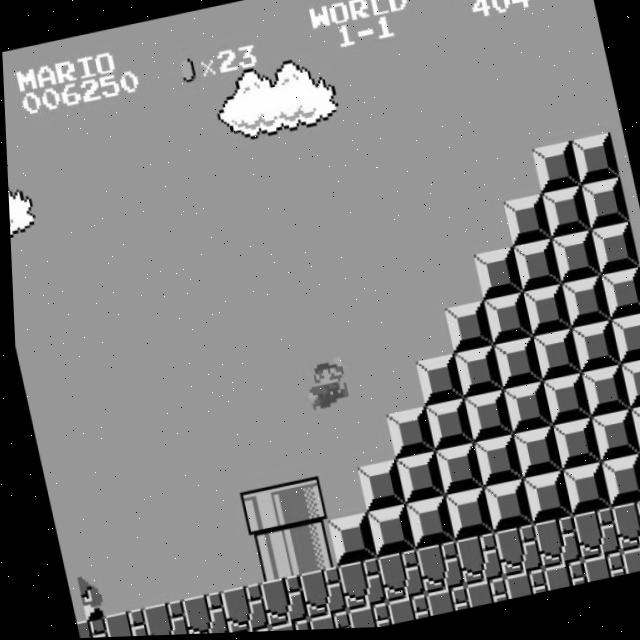11- little_mario: (294, 356, 347, 413)
14- pipe: (283, 522, 333, 576), (244, 531, 294, 584)
15- pipe_head: (234, 486, 284, 540), (274, 478, 323, 532)
17- undestructible_block: (410, 543, 460, 597), (566, 511, 616, 565), (253, 576, 303, 629), (331, 560, 381, 613), (449, 535, 499, 588), (488, 527, 538, 580), (527, 519, 577, 572), (371, 551, 420, 605), (293, 568, 342, 621), (214, 584, 263, 634), (175, 592, 224, 636), (135, 599, 184, 637), (606, 503, 640, 556), (96, 607, 145, 638), (497, 571, 543, 603), (458, 579, 503, 611), (419, 588, 465, 619), (380, 596, 425, 627), (537, 563, 582, 594), (576, 556, 621, 587), (340, 603, 385, 631), (302, 612, 346, 632), (70, 616, 106, 639), (615, 547, 640, 579), (263, 620, 307, 633)
8- goomba: (61, 571, 100, 625)
9- hard_block: (322, 514, 372, 568), (361, 506, 411, 560), (400, 498, 450, 552), (469, 437, 519, 491), (478, 482, 528, 536), (470, 250, 520, 304), (508, 429, 558, 483), (500, 197, 550, 251), (547, 421, 597, 475), (539, 189, 589, 243), (567, 323, 617, 377), (578, 181, 628, 235), (391, 454, 441, 507), (411, 356, 461, 409), (430, 446, 480, 499), (450, 348, 500, 401), (460, 393, 510, 446), (489, 340, 539, 393), (528, 332, 578, 385), (557, 466, 607, 519), (548, 234, 598, 287), (558, 279, 608, 332), (440, 490, 489, 544), (381, 409, 431, 461), (420, 401, 470, 453), (480, 295, 530, 347), (498, 385, 548, 437), (538, 377, 588, 429), (577, 369, 627, 421), (568, 137, 618, 189), (352, 462, 401, 515), (441, 303, 490, 356), (518, 474, 567, 527), (510, 242, 559, 295), (519, 287, 568, 340), (587, 413, 636, 466), (588, 226, 637, 279), (530, 145, 579, 197), (596, 458, 640, 511), (597, 271, 640, 323), (607, 315, 640, 369), (616, 360, 640, 412), (626, 405, 640, 458), (635, 450, 640, 503)
